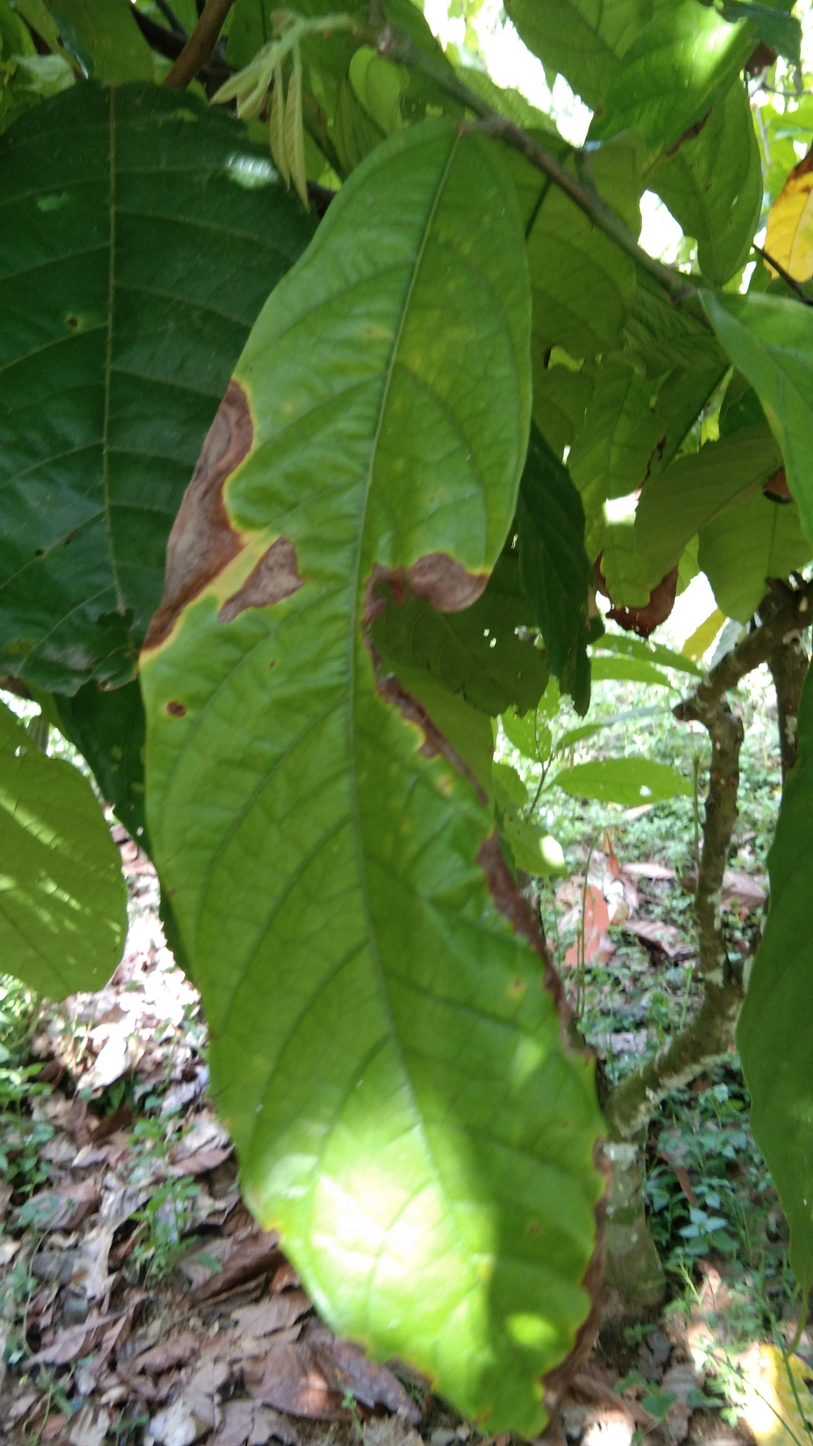deficiencia_potasio: (132, 107, 612, 1446)
